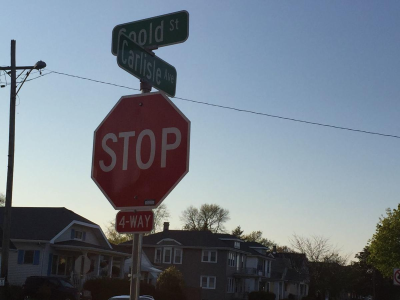stop: (97, 102, 184, 194)
